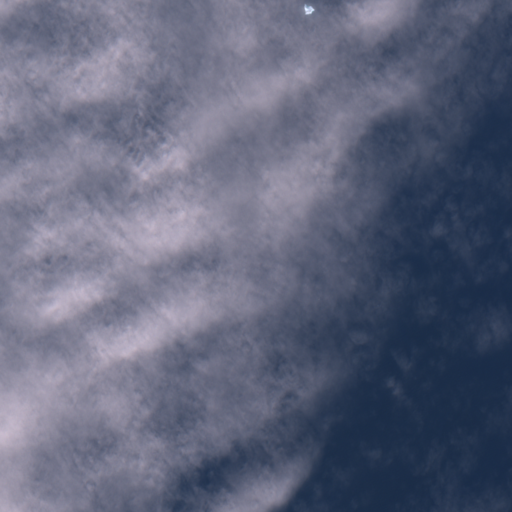Iceberg: (305, 5, 314, 13)
